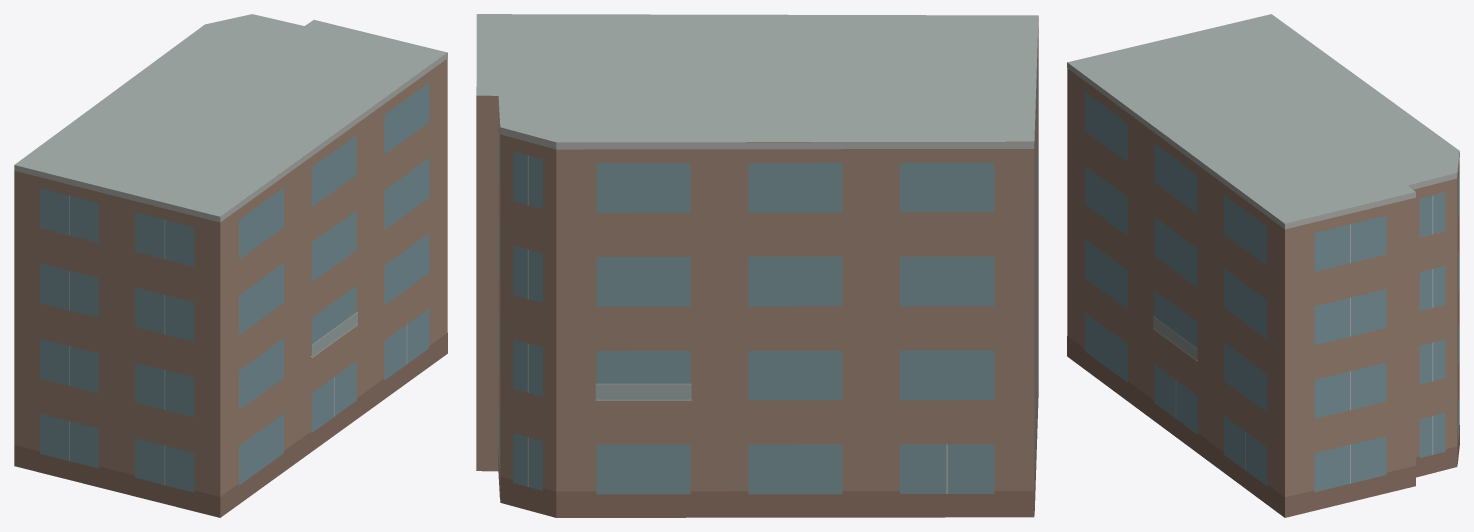
Rendered from survey-upis-32974796.glb.
3 views of the same model, side by side, from view 1: azimuth 30°, elevation 25°; view 2: azimuth 150°, elevation 25°; view 3: azimuth 270°, elevation 25° (orthographic). The views are drawn at different scales.
Visible parts, largest first — view 1: survey-upis-32974796.tmp; view 2: survey-upis-32974796.tmp; view 3: survey-upis-32974796.tmp.
Boxes of the visible parts, x1,y1,x2,y2 form: survey-upis-32974796.tmp: (14, 14, 447, 517); survey-upis-32974796.tmp: (476, 14, 1038, 517); survey-upis-32974796.tmp: (1067, 14, 1459, 517).
Size of the model in its own units: 19.6 by 12.8 by 15.5.
